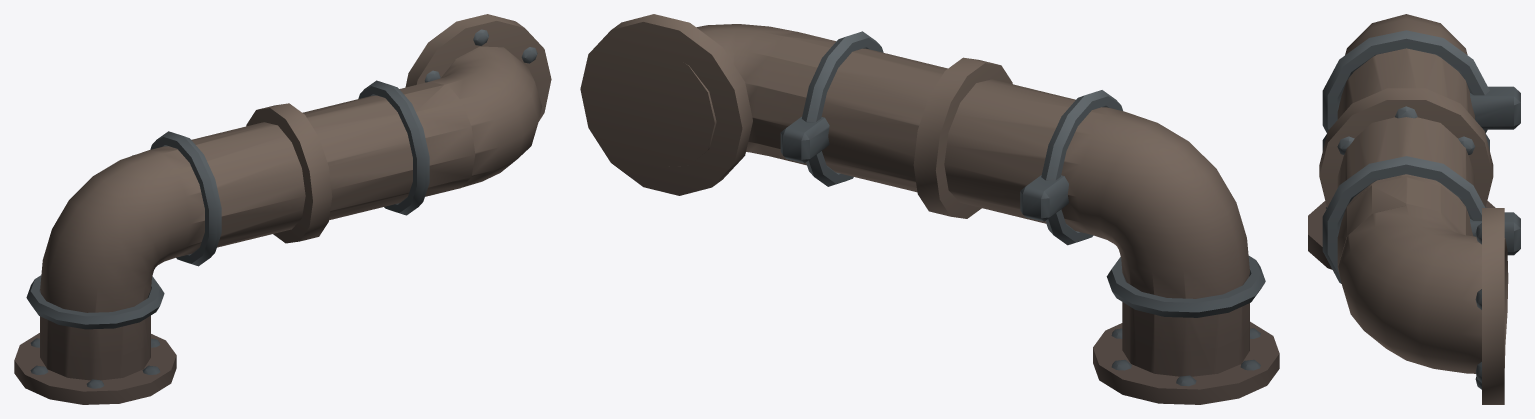
File: pipe_run.glb
3 renders of one model, left to right at view 1: azimuth 30°, elevation 25°; view 2: azimuth 150°, elevation 25°; view 3: azimuth 270°, elevation 25°, orthographic. The views are drawn at different scales.
Parts seen in each view (by area): view 1: pipe_run; view 2: pipe_run; view 3: pipe_run.
Part boxes in pixels (x1,y1,x2,y2): pipe_run: [14, 14, 551, 404]; pipe_run: [580, 14, 1279, 404]; pipe_run: [1308, 14, 1520, 404].
Bounding box in the file's own units: 3.48 × 1.33 × 0.929.
1 material, 1 textured.
